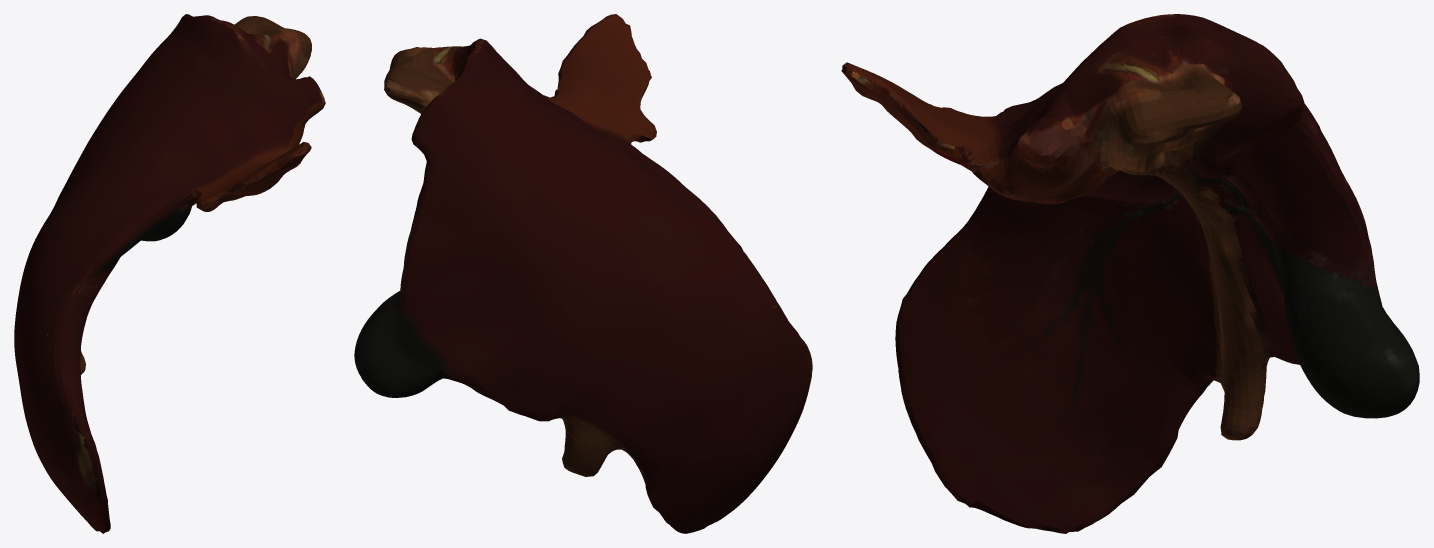
Rendered from Leber mit Gallenblase und Bauchspeicheldrüse.glb.
3 views of the same model, side by side, from view 1: azimuth 30°, elevation 25°; view 2: azimuth 150°, elevation 25°; view 3: azimuth 270°, elevation 25° (orthographic). The views are drawn at different scales.
Parts seen in each view (by area): view 1: 12 3k Leber mit Gallenblase und Bauchspeicheldrüse; view 2: 12 3k Leber mit Gallenblase und Bauchspeicheldrüse; view 3: 12 3k Leber mit Gallenblase und Bauchspeicheldrüse.
Boxes of the visible parts, box(x1,y1,x2,y2) form: 12 3k Leber mit Gallenblase und Bauchspeicheldrüse: box(14, 14, 325, 533); 12 3k Leber mit Gallenblase und Bauchspeicheldrüse: box(354, 14, 812, 533); 12 3k Leber mit Gallenblase und Bauchspeicheldrüse: box(841, 14, 1419, 533).
Size of the model in its own units: 103 by 133 by 110.
1 material, 1 textured.
